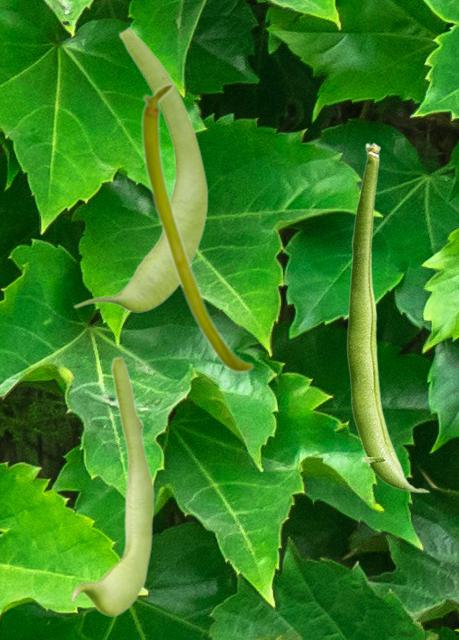french_bean: (72, 25, 208, 311), (140, 81, 254, 373), (346, 142, 430, 492), (70, 355, 153, 615)
